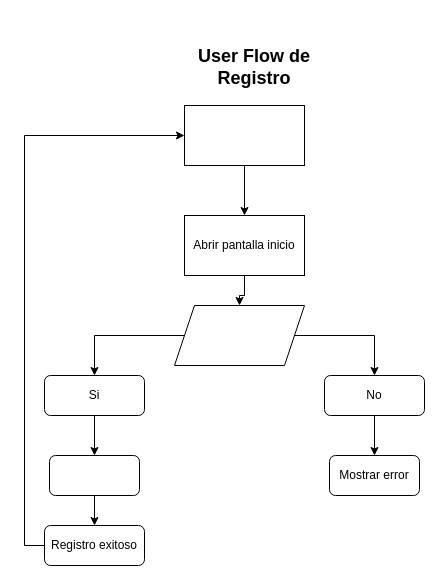
This 442x583 diagram has some shape labels left out. Each missing label, with the centre of its shape:
"Completar formulario" belongs at point 239,335.
"Crear cuenta" belongs at point 94,475.
"Inicio" belongs at point 244,135.
